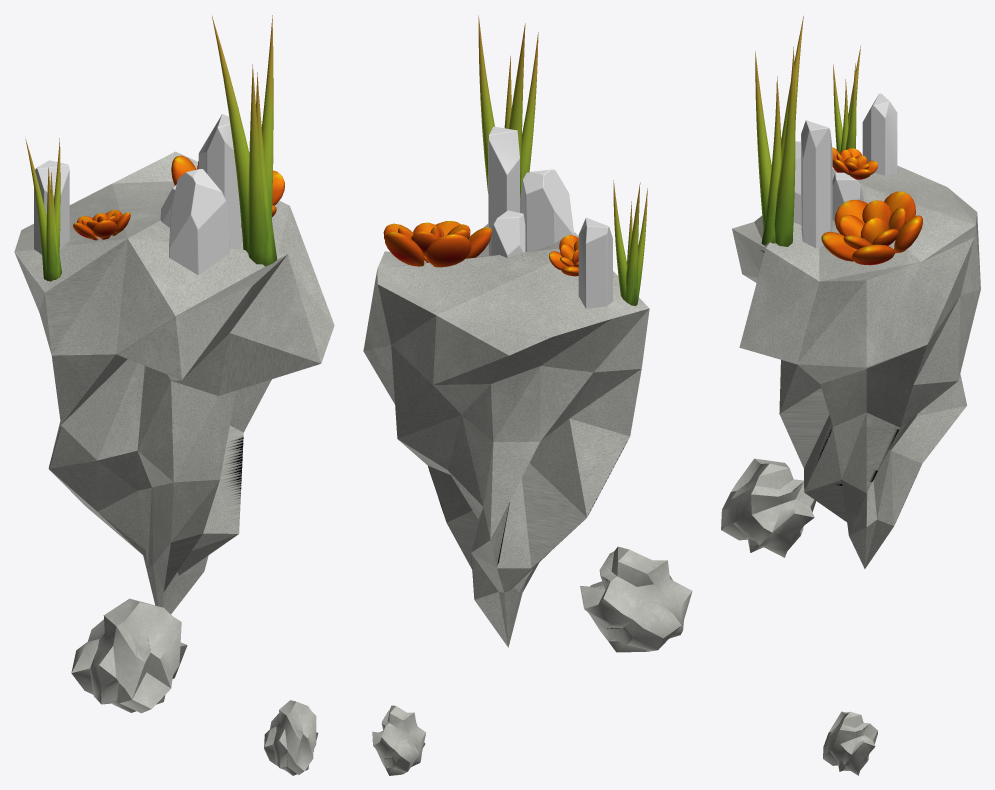
3 renders of one model, left to right at view 1: azimuth 30°, elevation 25°; view 2: azimuth 150°, elevation 25°; view 3: azimuth 270°, elevation 25°, orthographic. The views are drawn at different scales.
Visible parts, largest first — view 1: Roche, Crystal_1, Herbe_1, PlanteBulbe_1; view 2: Roche, Crystal_1, Herbe_1, PlanteBulbe_1; view 3: Roche, Crystal_1, Herbe_1, PlanteBulbe_1.
Part boxes in pixels (x1,y1,x2,y2): Roche: (14,151,334,775); Crystal_1: (34,114,241,275); Herbe_1: (25,15,278,281); PlanteBulbe_1: (73,155,284,240); Roche: (363,223,692,775); Crystal_1: (488,126,612,308); Herbe_1: (478,15,647,305); PlanteBulbe_1: (383,221,578,276); Roche: (721,165,980,775); Crystal_1: (793,93,897,248); Herbe_1: (755,16,860,252); PlanteBulbe_1: (821,147,922,265).
Size of the model in its own units: 75.52 by 203 by 66.95.
Materials: 5 (5 with a texture image).
